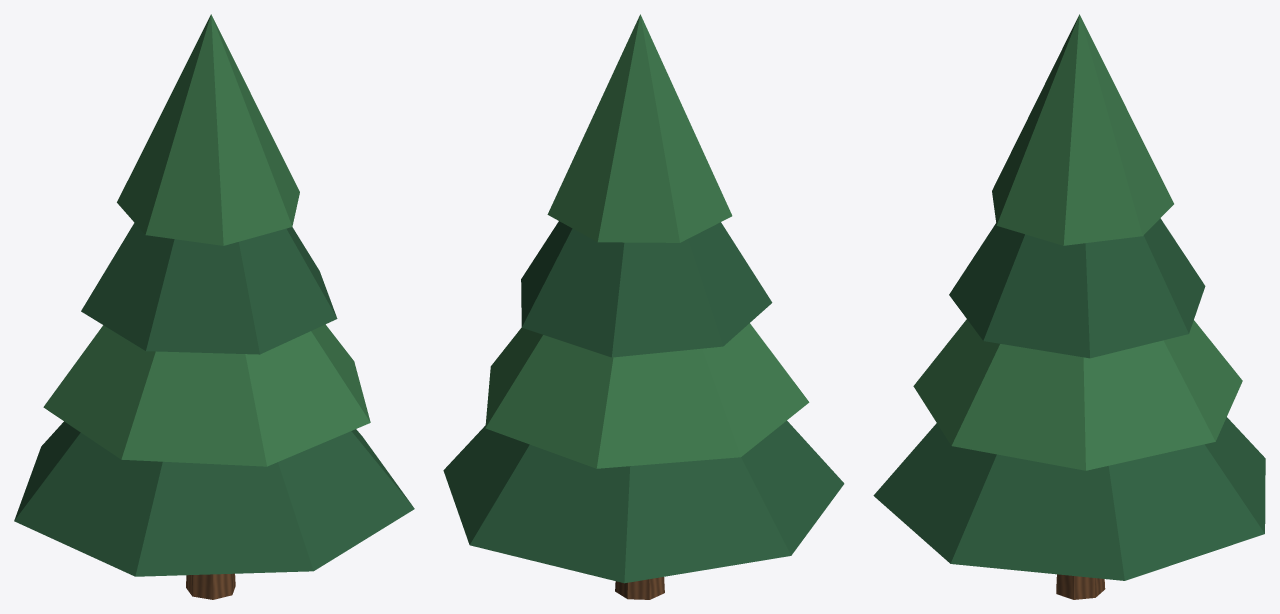
File: Pino_A.fbx
3 renders of one model, left to right at view 1: azimuth 30°, elevation 25°; view 2: azimuth 150°, elevation 25°; view 3: azimuth 270°, elevation 25°, orthographic.
Visible parts, largest first — view 1: Kit_Pino_A; view 2: Kit_Pino_A; view 3: Kit_Pino_A.
Boxes of the visible parts, bbox=[...] form: Kit_Pino_A: bbox=[14, 14, 414, 599]; Kit_Pino_A: bbox=[443, 14, 844, 599]; Kit_Pino_A: bbox=[873, 14, 1265, 599].
Bounding box in the file's own units: 4.39 × 6.93 × 4.28.
